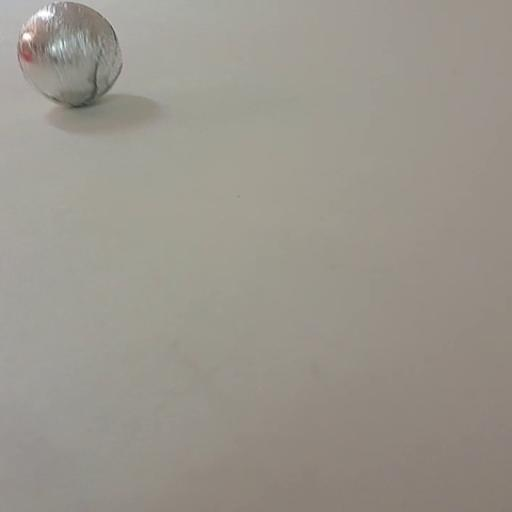alive: (16, 2, 123, 107)
